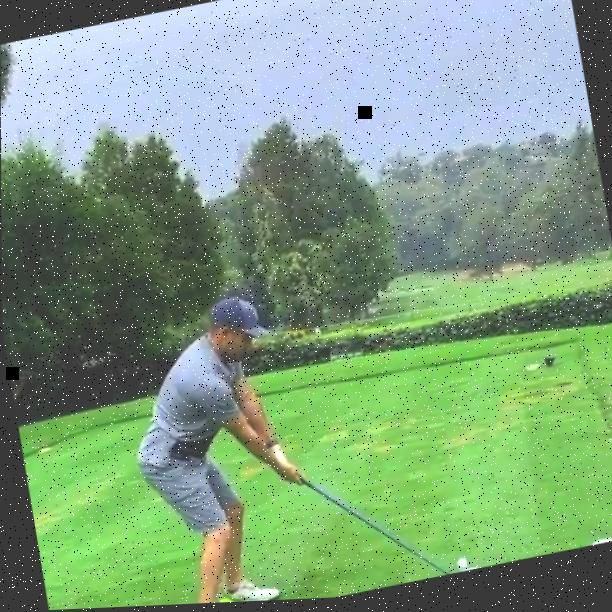GolfBall: (456, 561, 466, 570)
